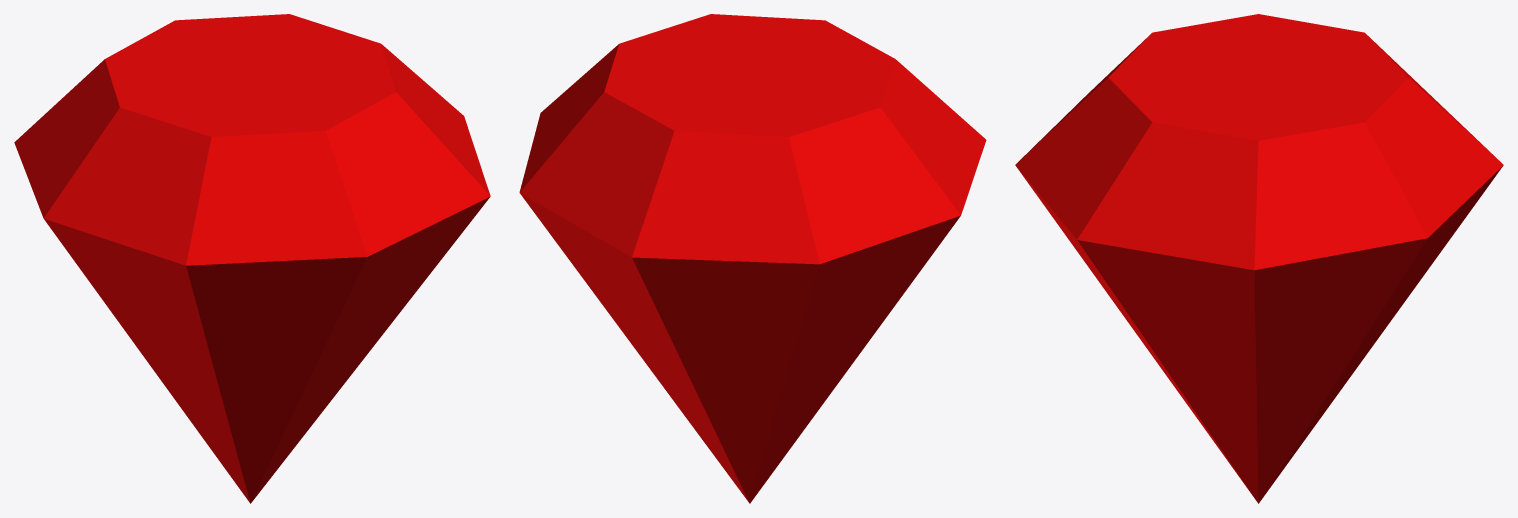
The model's file is Gem.fbx.
3 views of the same model, side by side, from view 1: azimuth 30°, elevation 25°; view 2: azimuth 150°, elevation 25°; view 3: azimuth 270°, elevation 25° (orthographic).
Parts seen in each view (by area): view 1: Gem; view 2: Gem; view 3: Gem.
Part boxes in pixels (<box>): Gem: <box>14,14,490,503</box>; Gem: <box>519,14,986,503</box>; Gem: <box>1015,14,1503,503</box>.
Bounding box in the file's own units: 0.2625 × 0.2555 × 0.2654.
